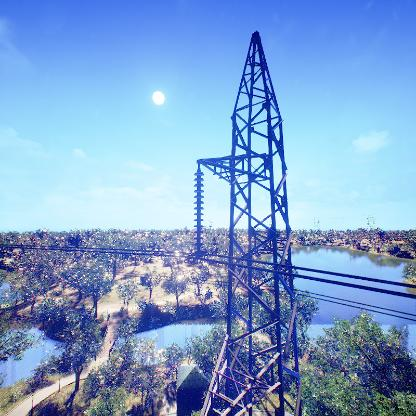insulator: (193, 171, 206, 250)
